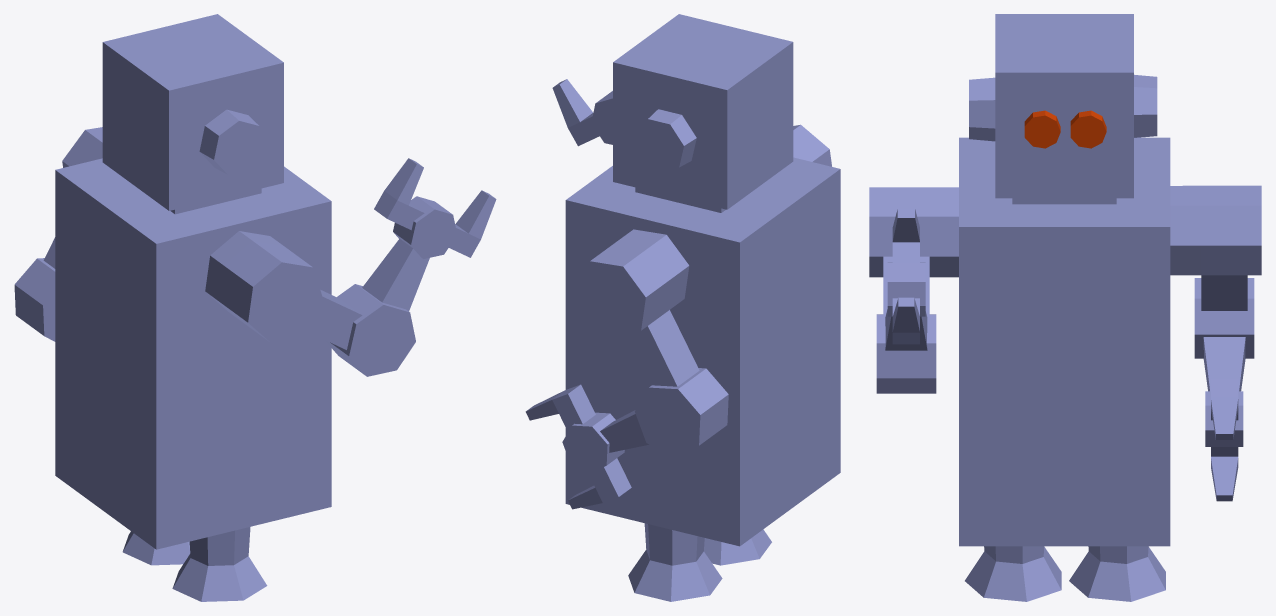
Rendered from robot-1-malfunctioned.fbx.
3 views of the same model, side by side, from view 1: azimuth 30°, elevation 25°; view 2: azimuth 150°, elevation 25°; view 3: azimuth 270°, elevation 25° (orthographic). The views are drawn at different scales.
Parts seen in each view (by area): view 1: robot-1-malfunctioned; view 2: robot-1-malfunctioned; view 3: robot-1-malfunctioned.
Boxes of the visible parts, x1,y1,x2,y2 form: robot-1-malfunctioned: (14, 14, 496, 601); robot-1-malfunctioned: (525, 14, 840, 601); robot-1-malfunctioned: (869, 14, 1261, 601).
Size of the model in its own units: 356 by 560 by 372.
